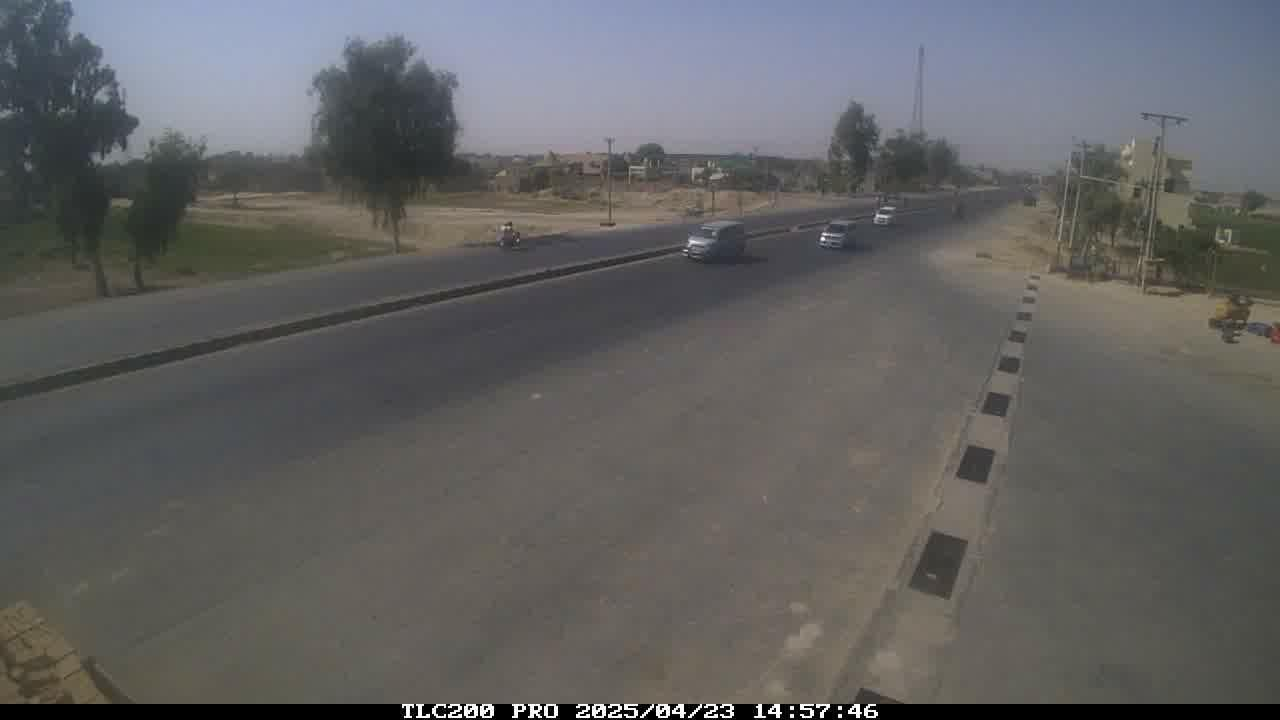van: (681, 218, 751, 265)
